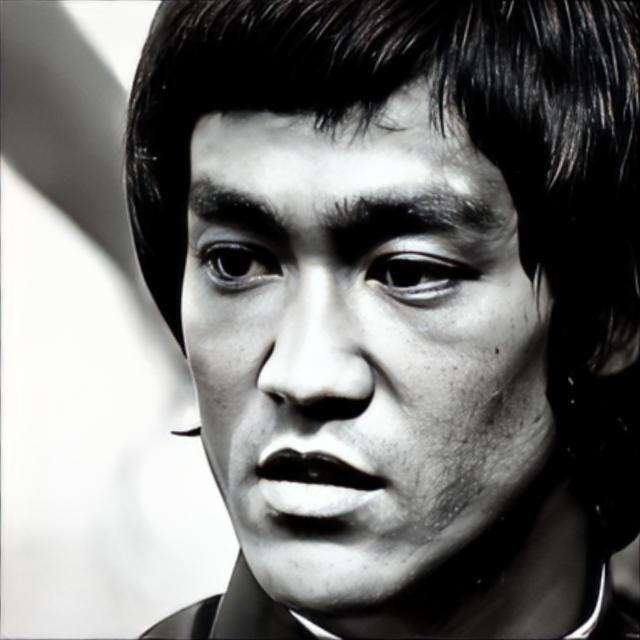anger: (176, 90, 551, 616)
